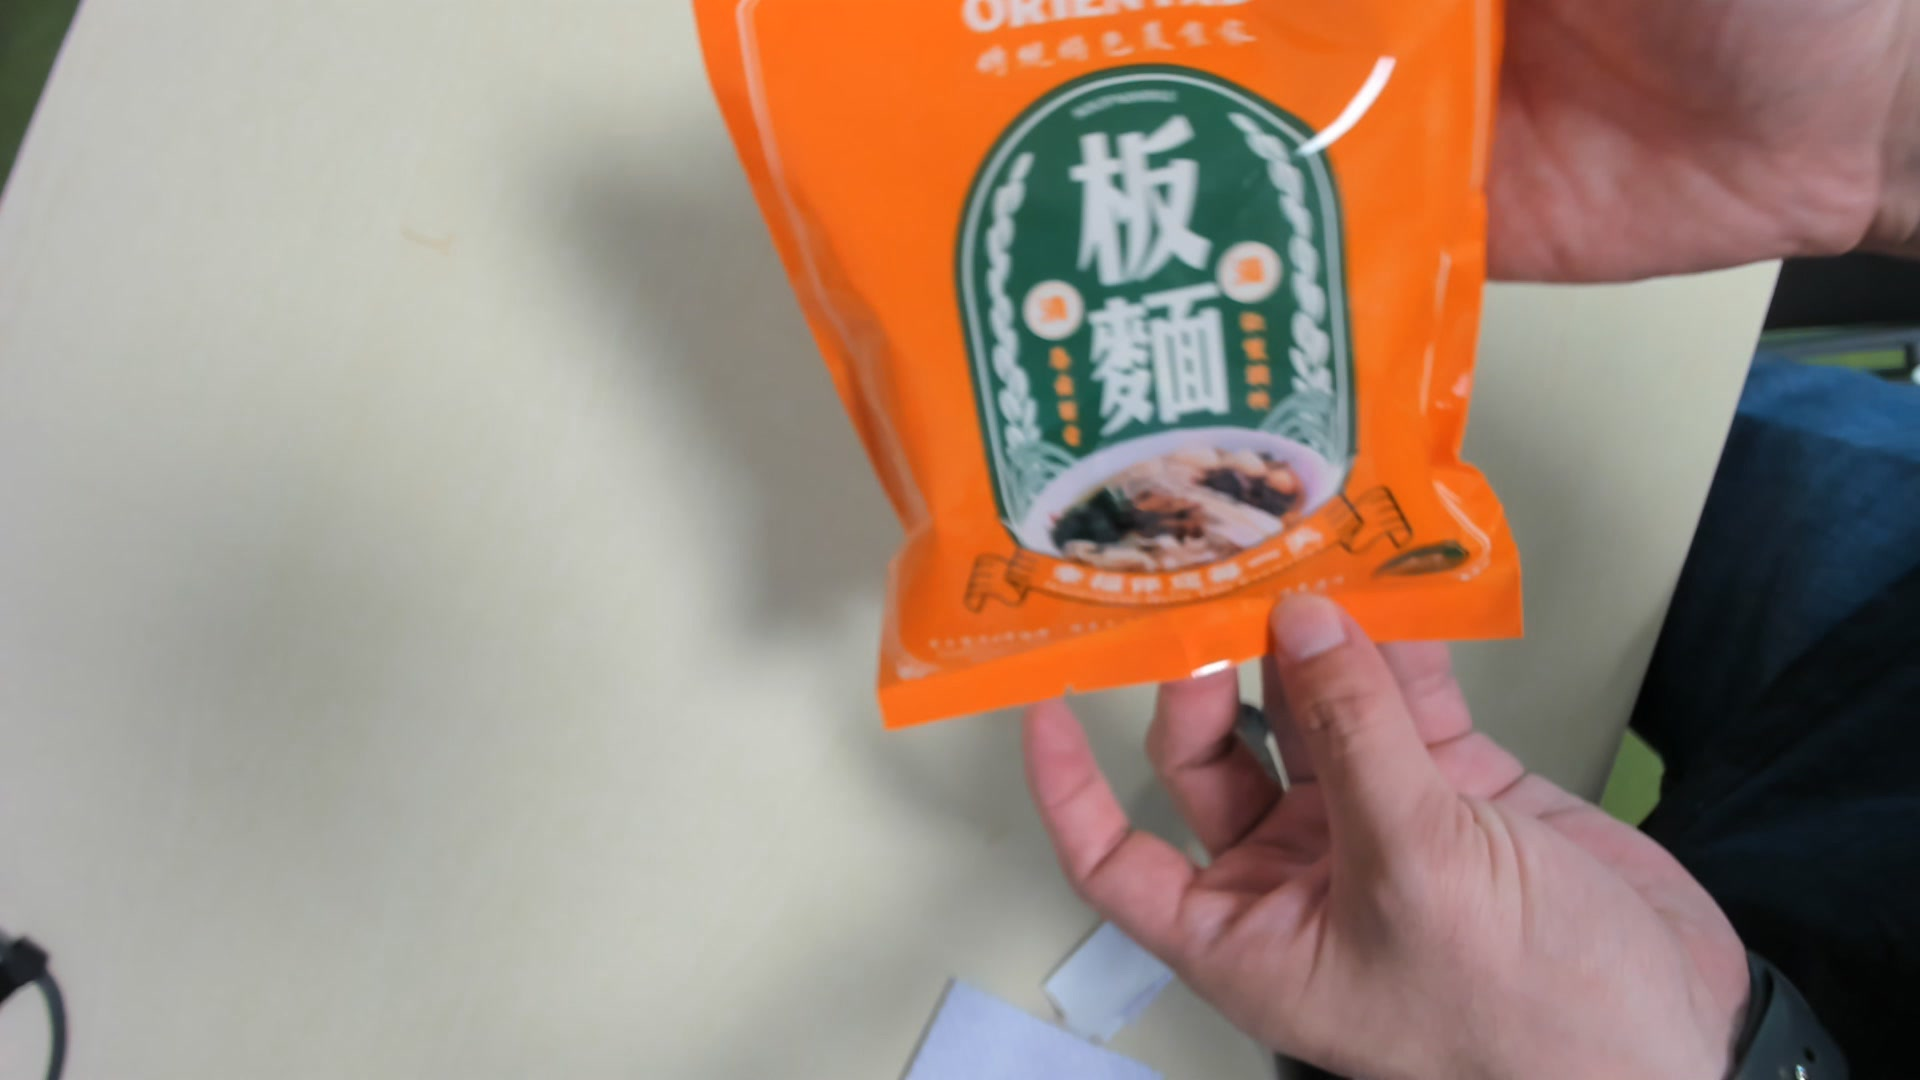InstantMeals_100-199g_NonHalal_Healthy: (694, 1, 1528, 738)
